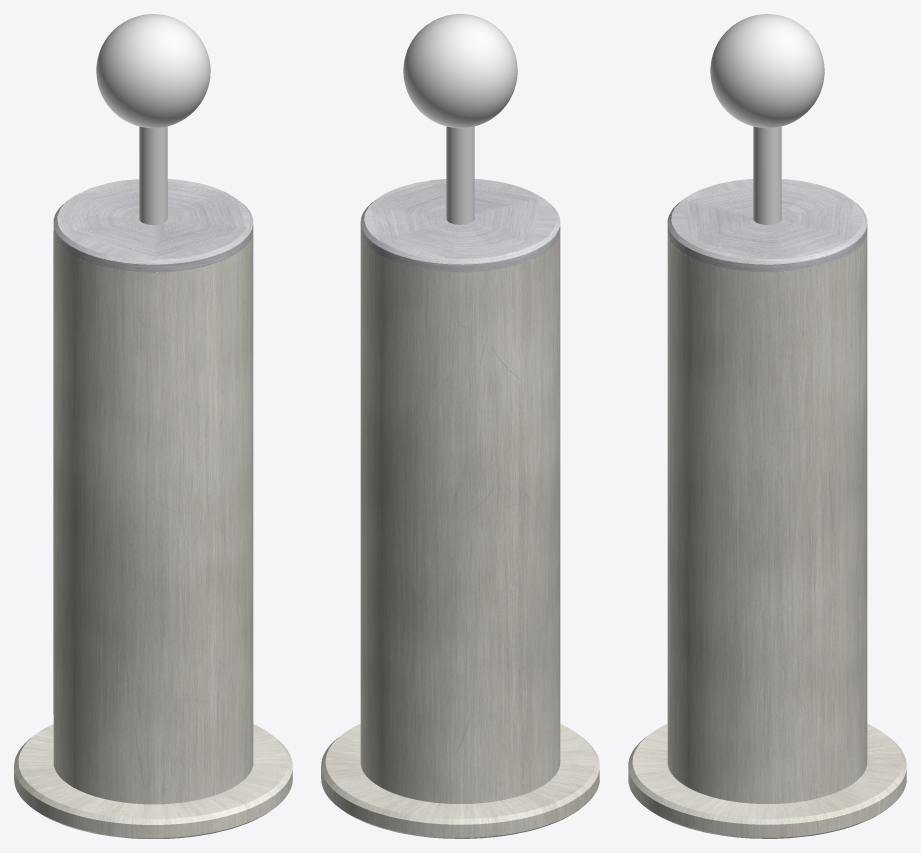
Rendered from king-white.glb.
3 renders of one model, left to right at view 1: azimuth 30°, elevation 25°; view 2: azimuth 150°, elevation 25°; view 3: azimuth 270°, elevation 25°, orthographic.
Visible parts, largest first — view 1: ferro-orbis_king_white; view 2: ferro-orbis_king_white; view 3: ferro-orbis_king_white.
Part boxes in pixels (x1=…): ferro-orbis_king_white: x1=14, y1=14, x2=292, y2=838; ferro-orbis_king_white: x1=321, y1=14, x2=599, y2=838; ferro-orbis_king_white: x1=628, y1=14, x2=906, y2=838.
Bounding box in the file's own units: 0.5467 × 1.65 × 0.5467.
4 materials, 2 textured.
